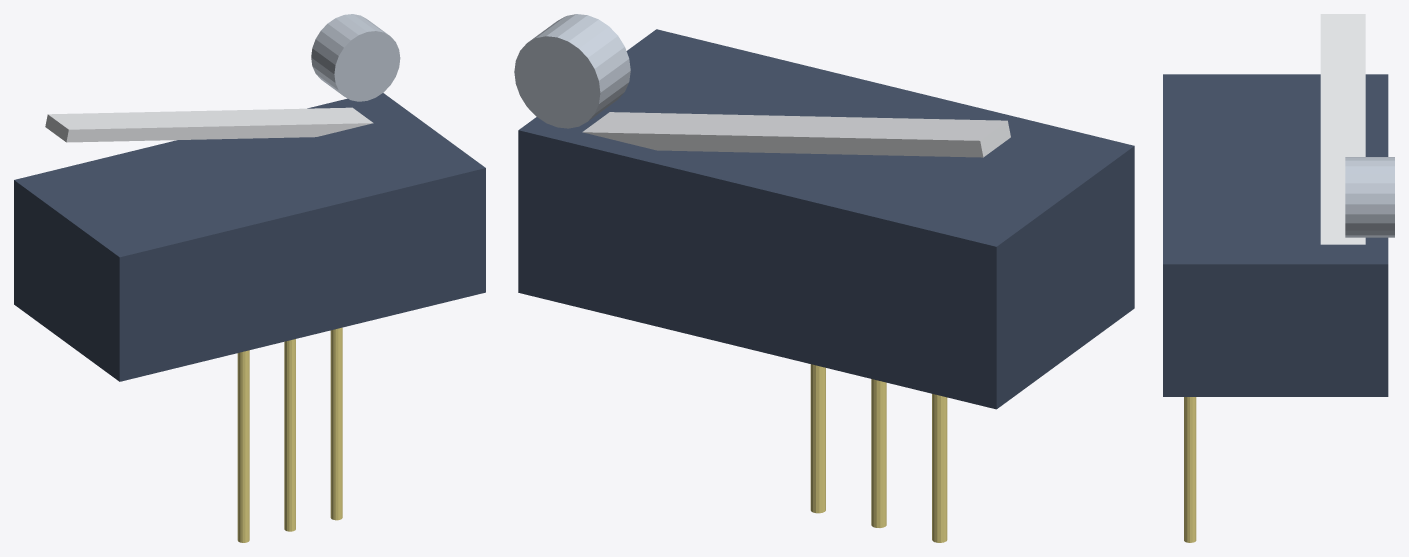
The model's file is limit-switch-microswitch.glb.
The picture shows the model from 3 angles, left to right: view 1: azimuth 30°, elevation 25°; view 2: azimuth 150°, elevation 25°; view 3: azimuth 270°, elevation 25°; orthographic projection. The views are drawn at different scales.
Visible parts, largest first — view 1: limit-switch-microswitch_mesh; view 2: limit-switch-microswitch_mesh; view 3: limit-switch-microswitch_mesh.
Part boxes in pixels (bbox=[...]): limit-switch-microswitch_mesh: bbox=[14, 14, 485, 542]; limit-switch-microswitch_mesh: bbox=[514, 14, 1134, 542]; limit-switch-microswitch_mesh: bbox=[1163, 14, 1394, 542].
Size of the model in its own units: 20 by 21.25 by 10.3.
